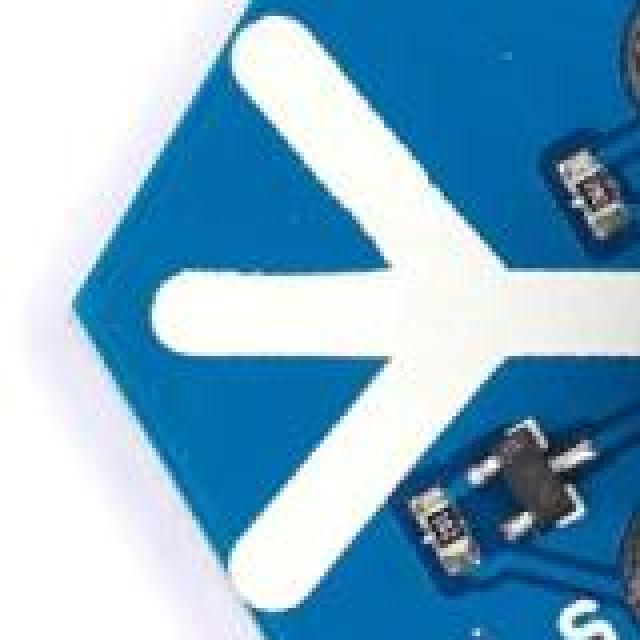resistor: (413, 489, 475, 577), (565, 161, 633, 239)
transistor: (464, 405, 594, 558)
